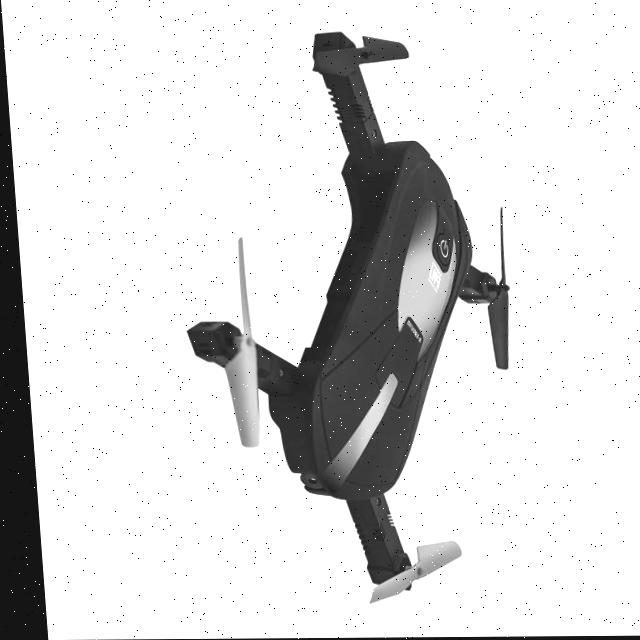drone: (164, 30, 545, 602)
